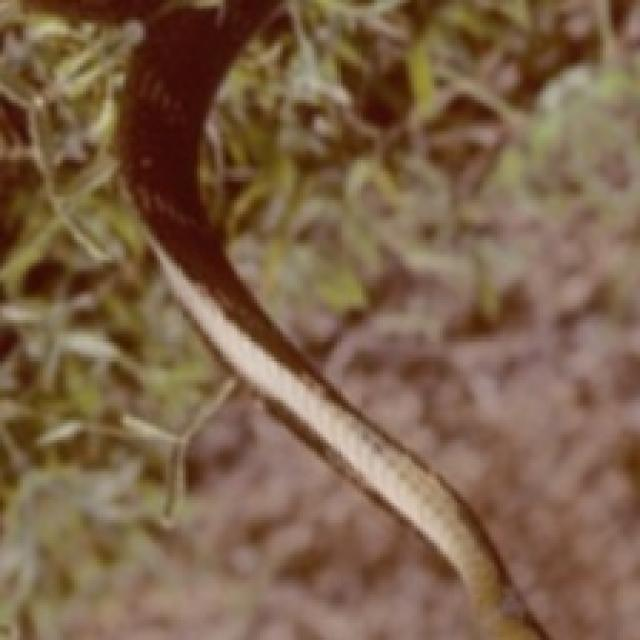king cobra: (0, 0, 477, 637), (200, 0, 637, 637)
